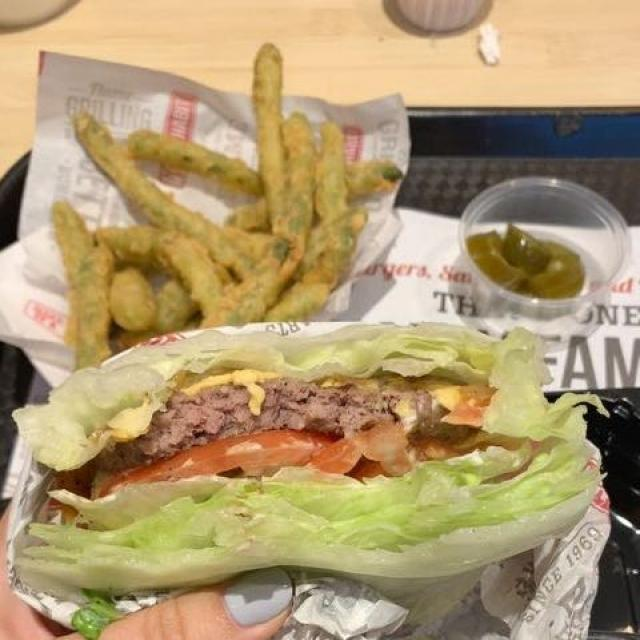beans: (52, 35, 422, 368)
meat: (76, 379, 478, 479)
tomato: (90, 423, 487, 493)
veggie-burger: (11, 330, 596, 586)
